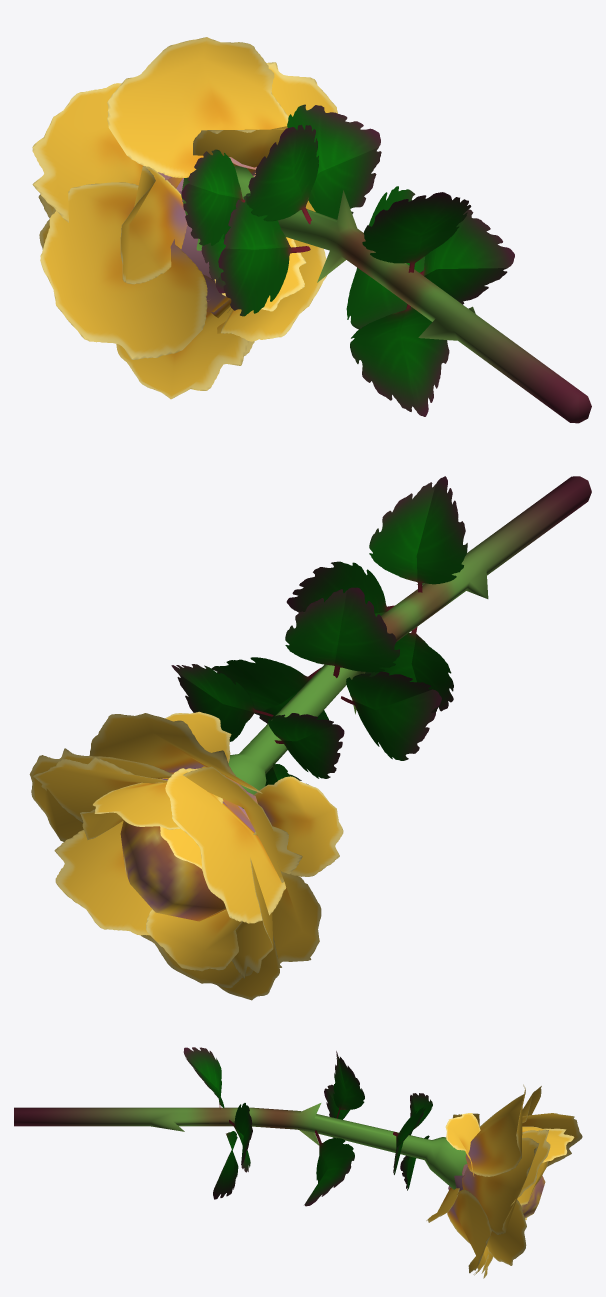
File: SM_Rose_Yellow_WideOpen.fbx
3 views of the same model, one above another, from view 1: azimuth 30°, elevation 25°; view 2: azimuth 150°, elevation 25°; view 3: azimuth 270°, elevation 25° (orthographic). The views are drawn at different scales.
Parts seen in each view (by area): view 1: Rose_Yellow_WideOpen; view 2: Rose_Yellow_WideOpen; view 3: Rose_Yellow_WideOpen.
Part boxes in pixels (x1,y1,x2,y2): Rose_Yellow_WideOpen: [32, 37, 591, 423]; Rose_Yellow_WideOpen: [29, 476, 591, 1000]; Rose_Yellow_WideOpen: [14, 1047, 582, 1278].
Size of the model in its own units: 52.56 by 59.81 by 130.
